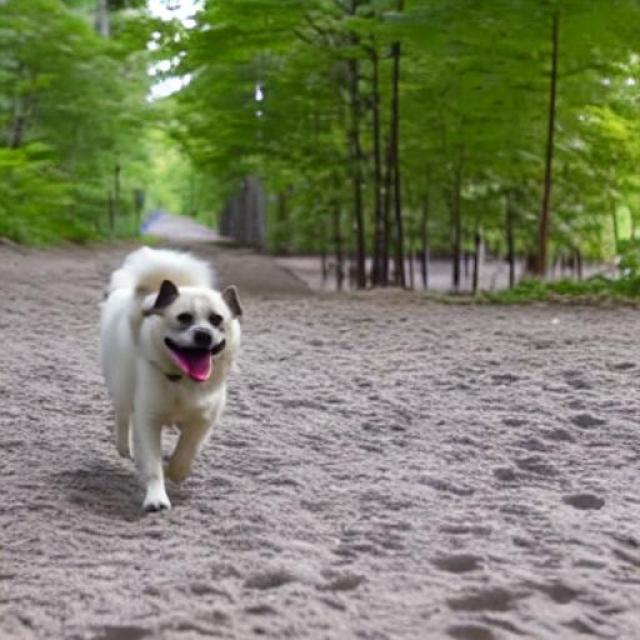Dog: (100, 245, 244, 523)
